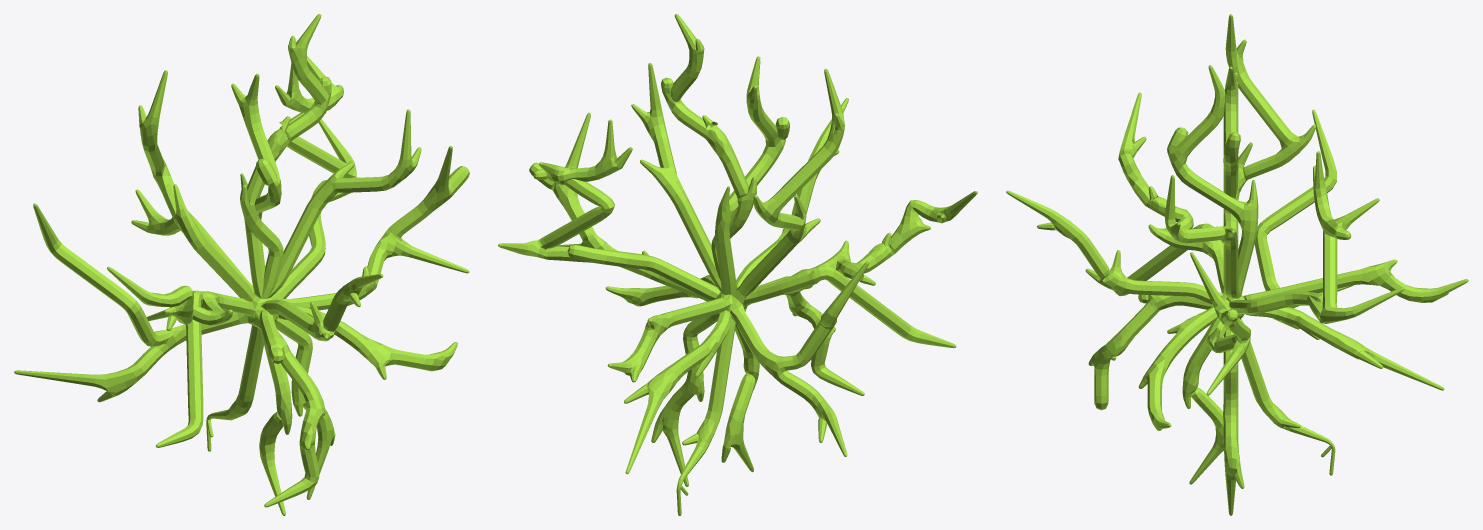
The model's file is PROTECTION.fbx.
3 renders of one model, left to right at view 1: azimuth 30°, elevation 25°; view 2: azimuth 150°, elevation 25°; view 3: azimuth 270°, elevation 25°, orthographic. The views are drawn at different scales.
Visible parts, largest first — view 1: Cube; view 2: Cube; view 3: Cube.
Boxes of the visible parts, x1,y1,x2,y2 form: Cube: (14, 14, 469, 515); Cube: (498, 14, 977, 515); Cube: (1006, 14, 1468, 515).
Bounding box in the file's own units: 122 × 137 × 127.
